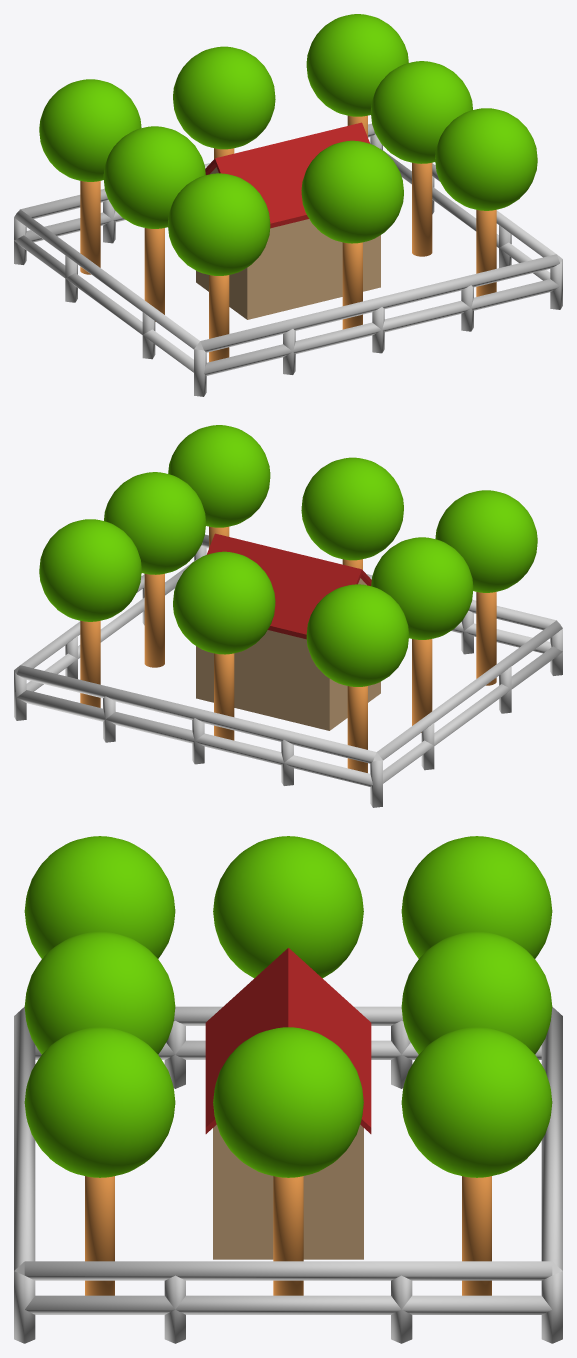
Rendered from BAppleFarm.obj.
3 renders of one model, top to bottom at view 1: azimuth 30°, elevation 25°; view 2: azimuth 150°, elevation 25°; view 3: azimuth 270°, elevation 25°, orthographic. The views are drawn at different scales.
Visible parts, largest first — view 1: AppleFarm; view 2: AppleFarm; view 3: AppleFarm.
Part boxes in pixels (x1,y1,x2,y2): AppleFarm: (14,14,562,396); AppleFarm: (14,425,562,807); AppleFarm: (14,836,562,1343).
Bounding box in the file's own units: 8.28 × 4 × 7.28.
